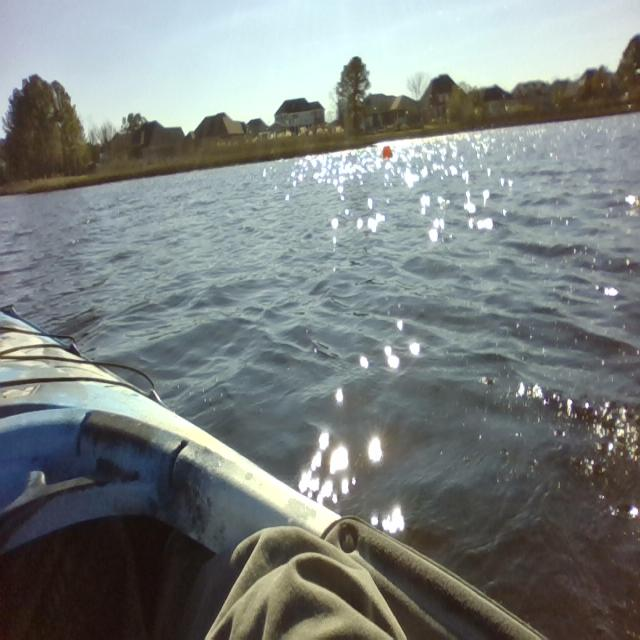Buoy: (376, 139, 401, 169)
